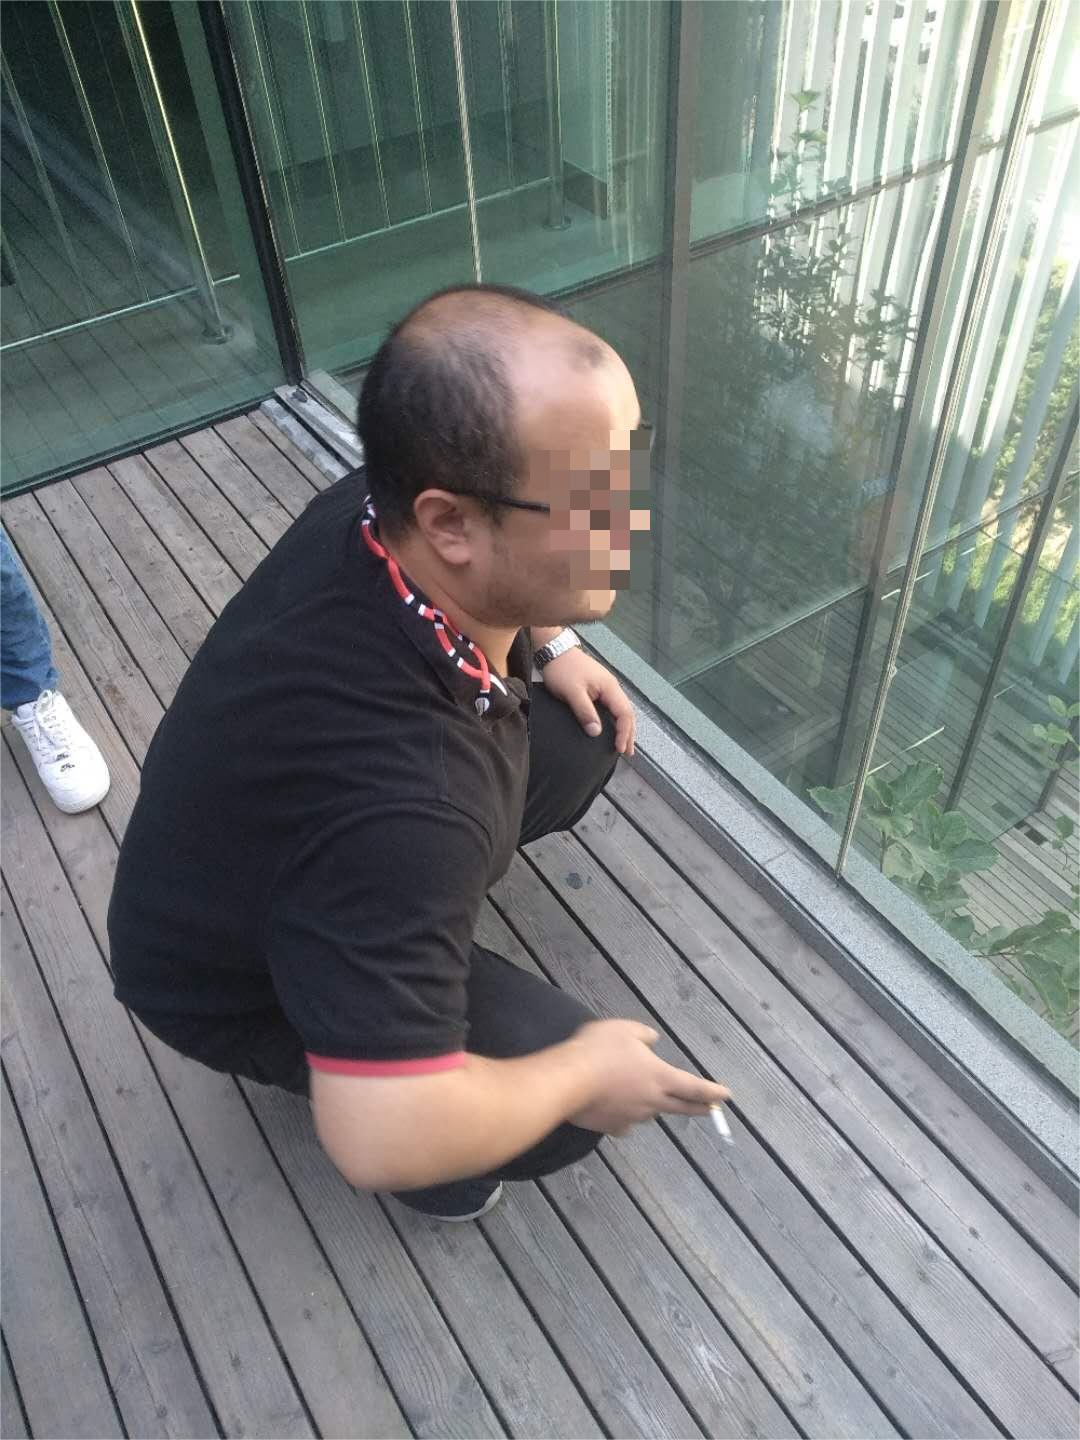smoke: (710, 1103, 746, 1149)
